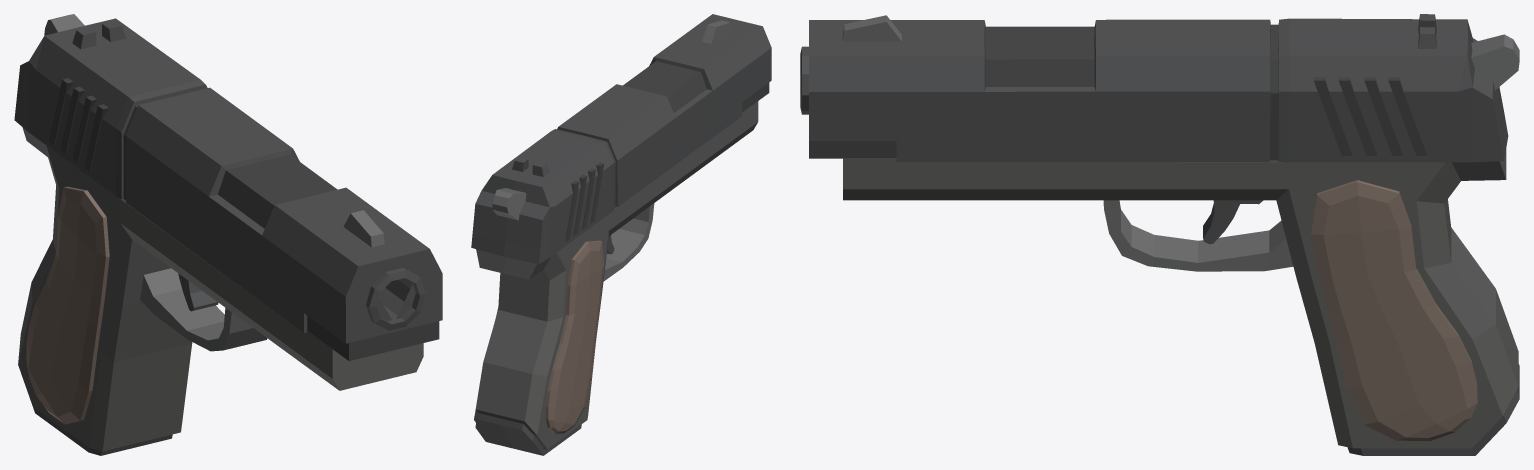
The model's file is pistolet-2.glb.
3 renders of one model, left to right at view 1: azimuth 30°, elevation 25°; view 2: azimuth 150°, elevation 25°; view 3: azimuth 270°, elevation 25°, orthographic. The views are drawn at different scales.
Visible parts, largest first — view 1: Pistol_1; view 2: Pistol_1; view 3: Pistol_1.
Boxes of the visible parts, x1,y1,x2,y2 form: Pistol_1: (14,14,442,455); Pistol_1: (471,14,771,455); Pistol_1: (800,14,1519,455).
Size of the model in its own units: 0.1776 by 0.6384 by 1.
